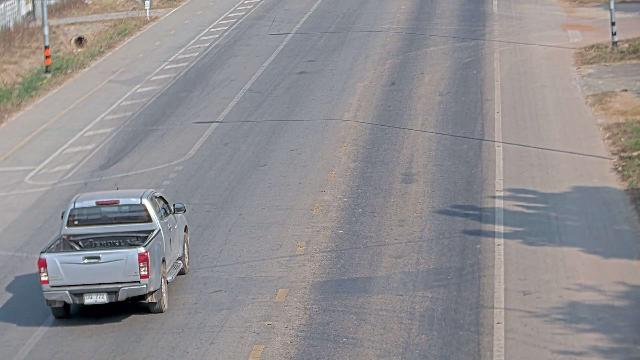pickup-truck: (36, 187, 190, 319)
